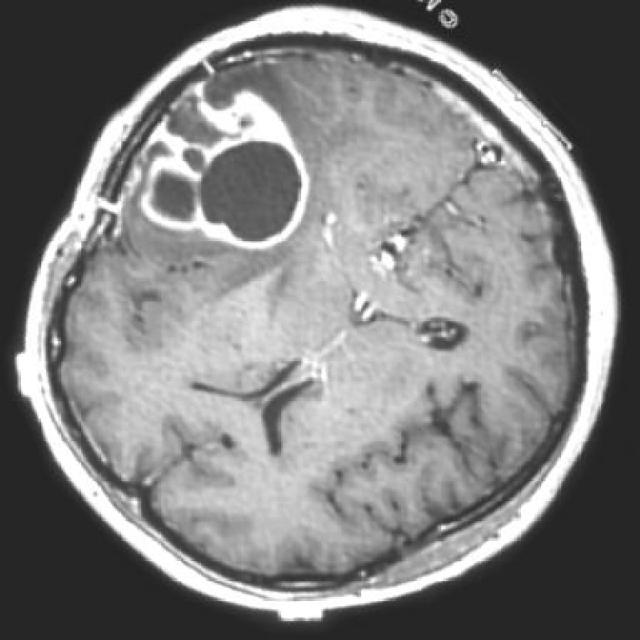Brain-Tumor: (119, 60, 334, 256)
